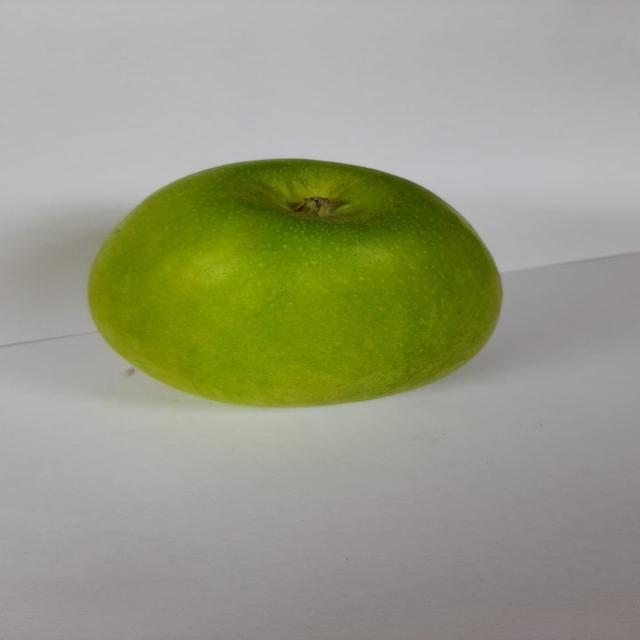50-_ripeness: (64, 151, 516, 415)
